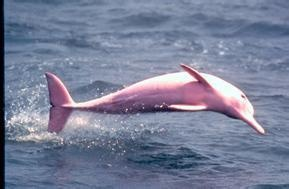fish: (44, 64, 268, 140)
